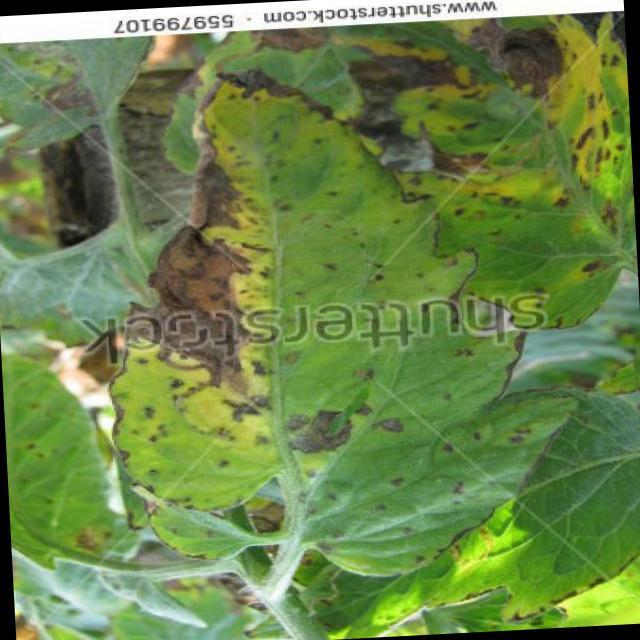Tomato leaf bacterial spot: (95, 51, 533, 613), (374, 21, 637, 311)
